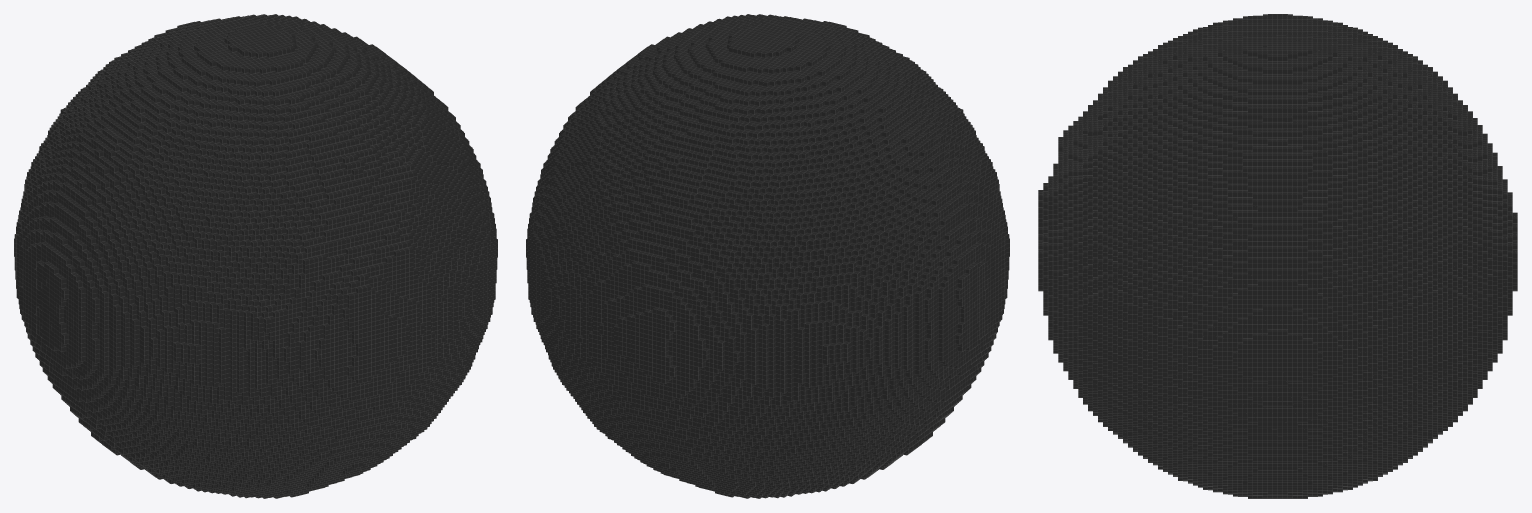
The model's file is terrain.glb.
3 views of the same model, side by side, from view 1: azimuth 30°, elevation 25°; view 2: azimuth 150°, elevation 25°; view 3: azimuth 270°, elevation 25° (orthographic).
Size of the model in its own units: 240 by 240 by 240.
Materials: 1 (1 with a texture image).
